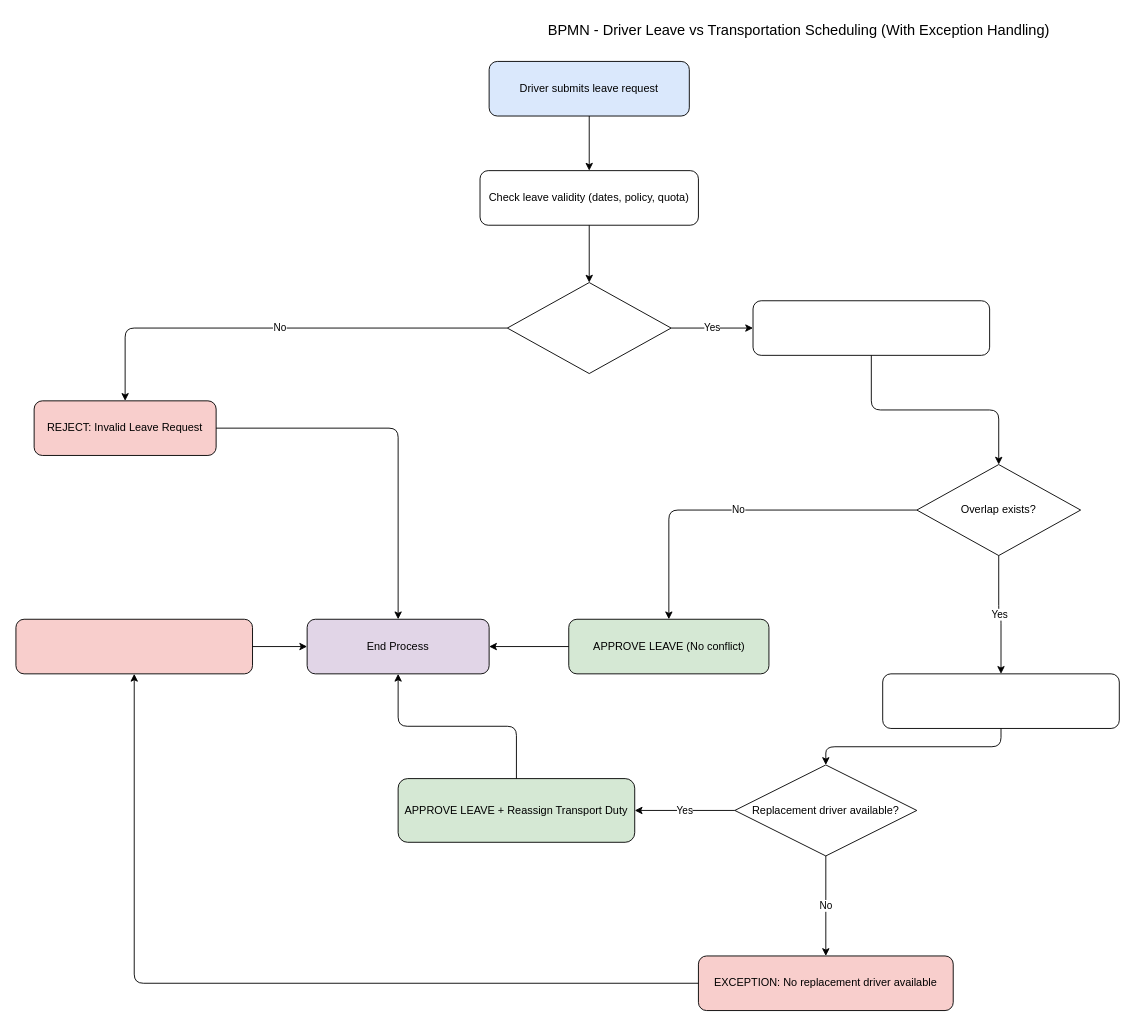
Image size: 1136x1026. Some labels were removed from this diagram. The centre of each missing label's shape, as x and y in pixels:
"Check overlap with transport assignments" goes at point 871,327.
"Check replacement driver availability" goes at point 1000,700.
"Leave valid?" goes at point 588,328.
"REJECT or RETURN for rescheduling" goes at point 134,646.
